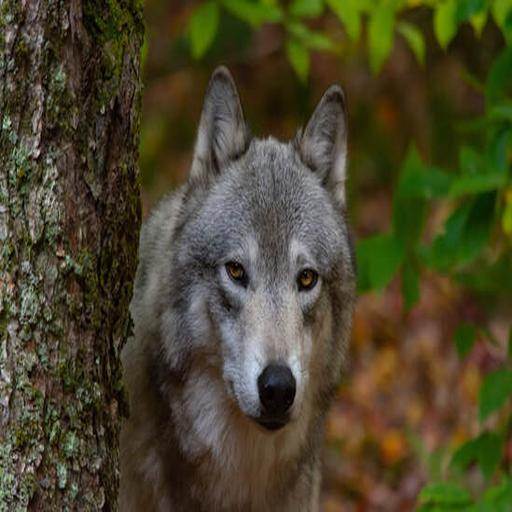Wolf: (102, 66, 368, 508)
